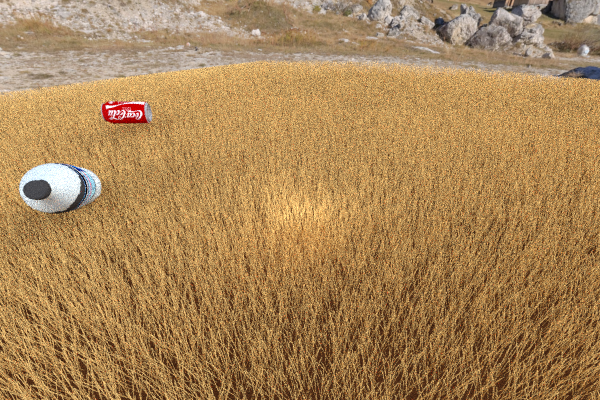bottle: (19, 163, 101, 213)
can: (531, 82, 591, 106), (100, 101, 152, 123)
